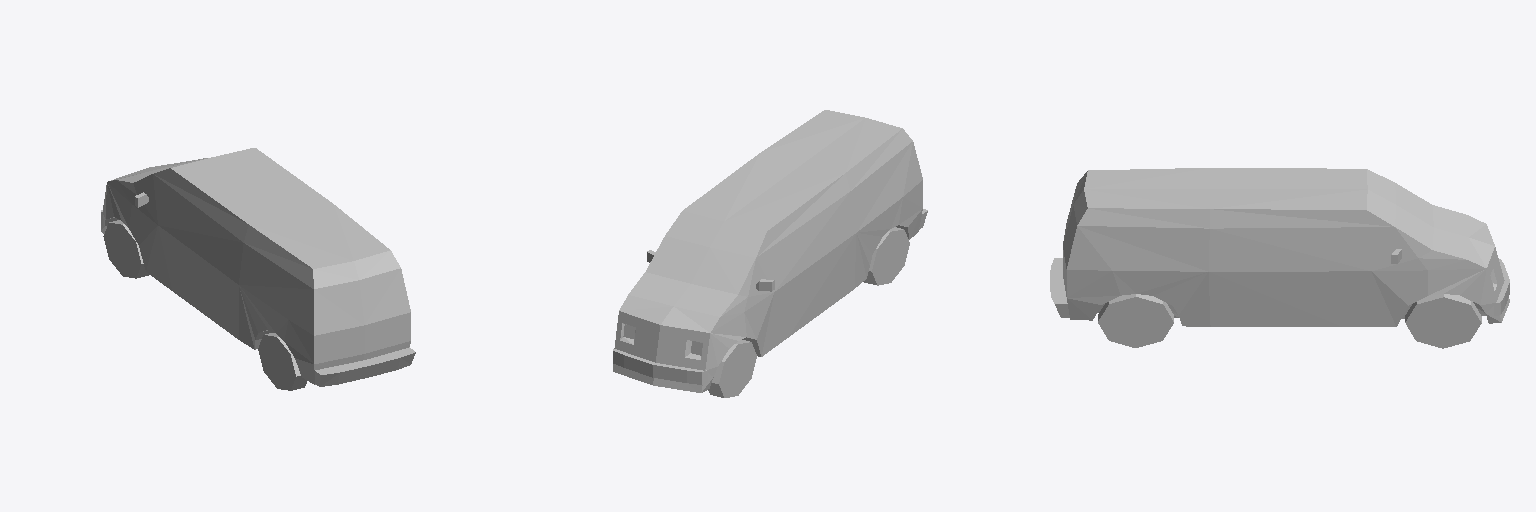
Rendered from Car4_o3.obj.
3 renders of one model, left to right at view 1: azimuth 30°, elevation 25°; view 2: azimuth 150°, elevation 25°; view 3: azimuth 270°, elevation 25°, orthographic.
Visible parts, largest first — view 1: Car4; view 2: Car4; view 3: Car4.
Part boxes in pixels (left/top/right/bottom): Car4: left=101, top=148, right=415, bottom=390; Car4: left=613, top=110, right=927, bottom=397; Car4: left=1050, top=168, right=1509, bottom=348.
Size of the model in its own units: 1.55 by 1.6 by 4.93.